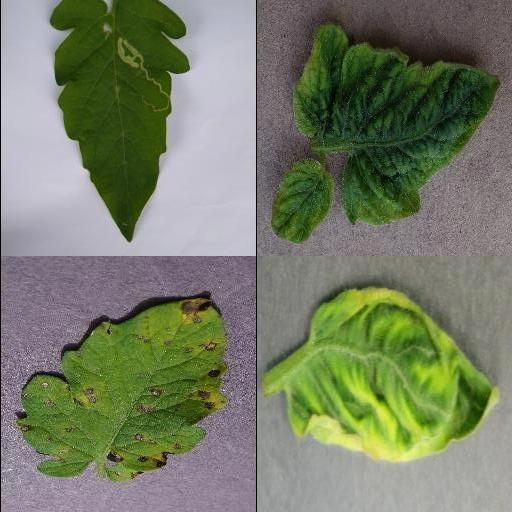Leaf Miner: (49, 0, 192, 242)
Septoria: (19, 292, 230, 482)
Yellow Leaf Curl Virus: (290, 23, 502, 227), (285, 287, 499, 463), (269, 157, 335, 245)
